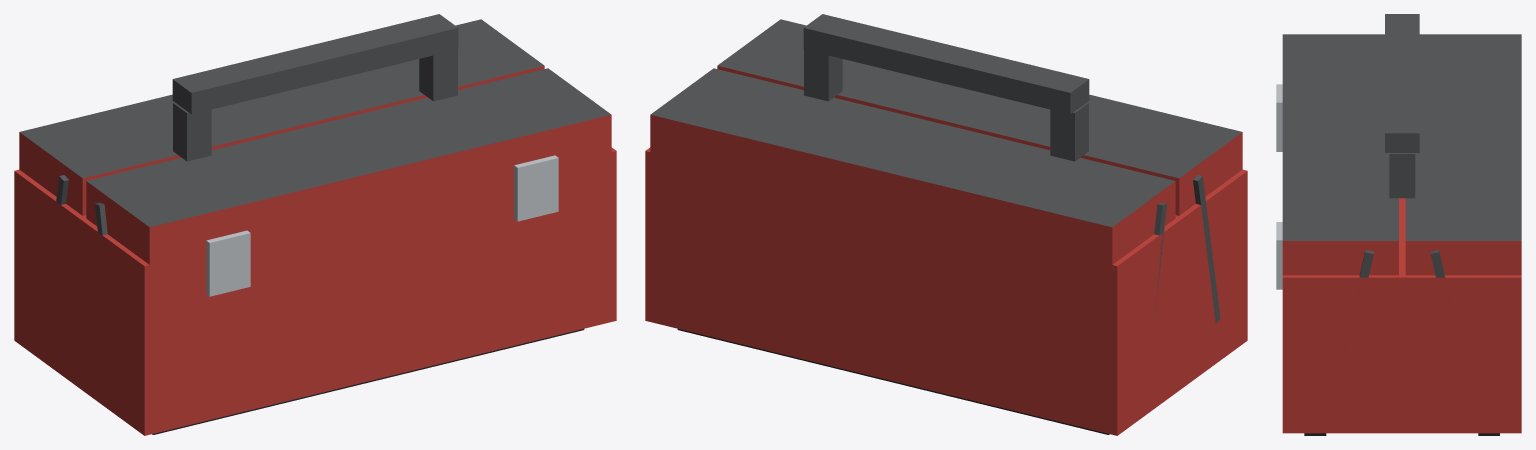
File: SM_Workshop_Toolbox_01.fbx
The picture shows the model from 3 angles, left to right: view 1: azimuth 30°, elevation 25°; view 2: azimuth 150°, elevation 25°; view 3: azimuth 270°, elevation 25°; orthographic projection. The views are drawn at different scales.
Parts seen in each view (by area): view 1: SM_Workshop_Toolbox_01; view 2: SM_Workshop_Toolbox_01; view 3: SM_Workshop_Toolbox_01.
Boxes of the visible parts, x1,y1,x2,y2 form: SM_Workshop_Toolbox_01: (14, 14, 616, 435); SM_Workshop_Toolbox_01: (645, 14, 1247, 435); SM_Workshop_Toolbox_01: (1276, 14, 1521, 435).
Size of what is drawn, in the model's own units: 0.46 by 0.27 by 0.226.
Materials: 1 (1 with a texture image).
